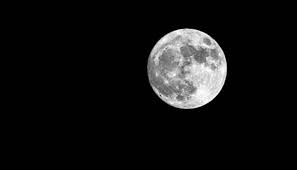moon: (144, 23, 232, 111)
